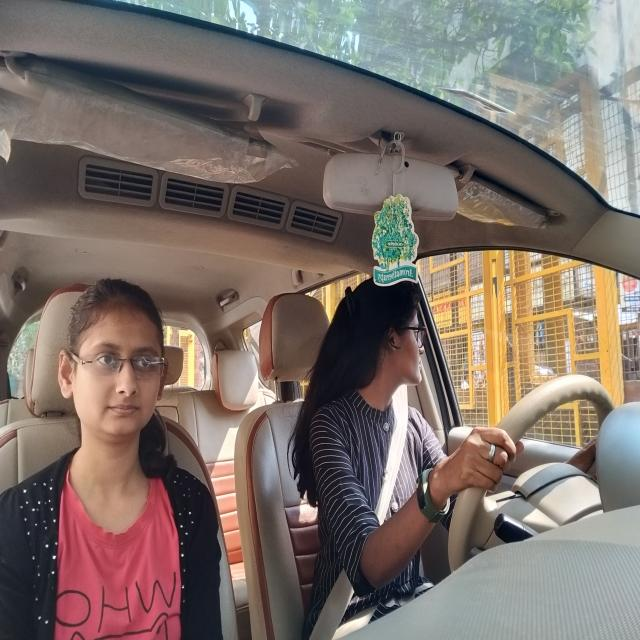LeftRight: (339, 279, 434, 401)
person: (64, 284, 170, 446)
